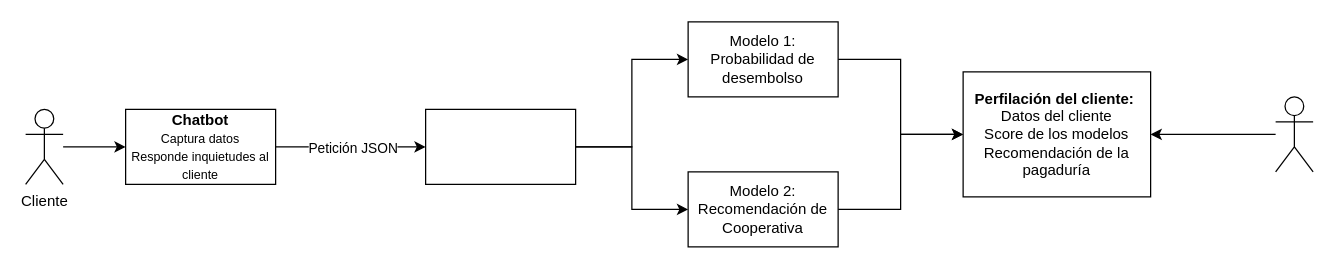
This 1339x269 diagram has some shape labels left out. Each missing label, with the centre of its shape:
"API Modelos" goes at pixel 500 146.
"Asesor" goes at pixel 1293 134.
